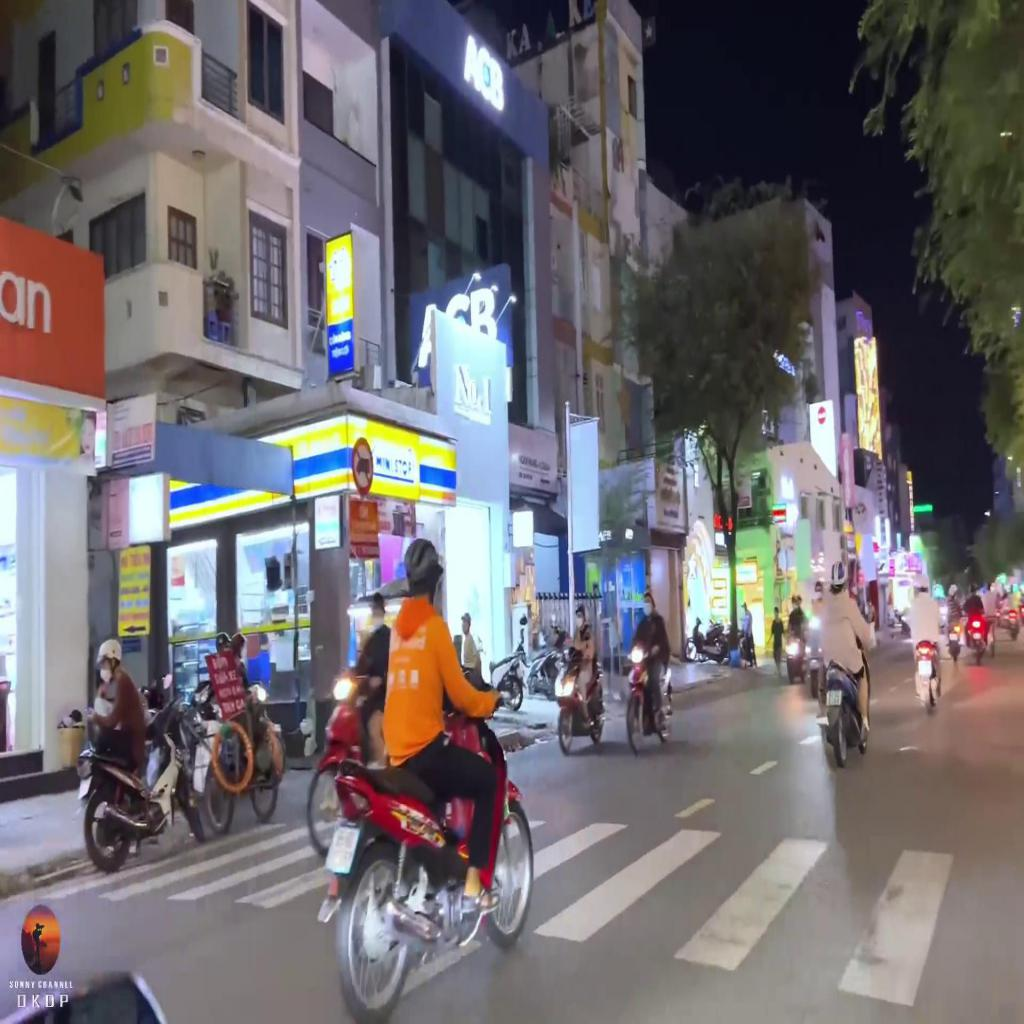cam_o_to_tai: (352, 437, 374, 497)
